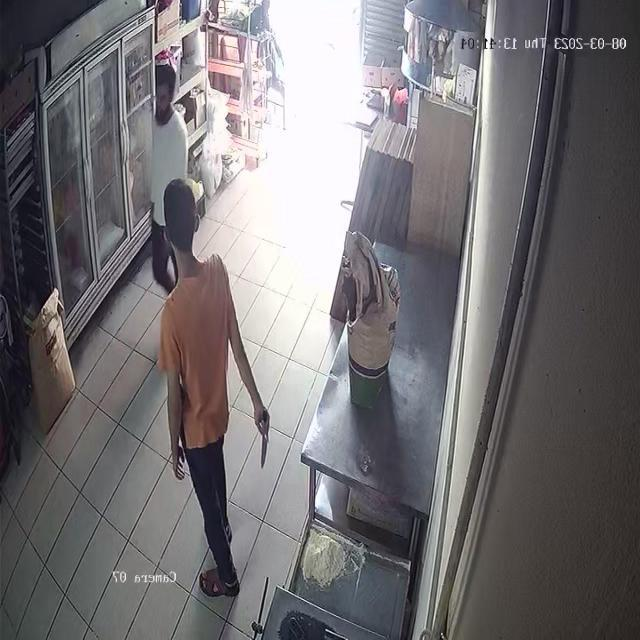Knife: (247, 404, 280, 471)
